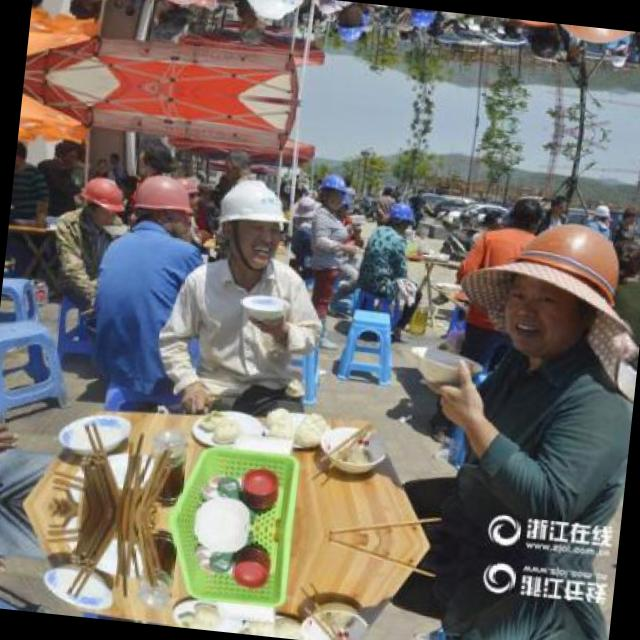helmet: (502, 217, 624, 359), (212, 174, 294, 272), (126, 168, 194, 237), (72, 170, 126, 228), (237, 0, 315, 25), (333, 5, 366, 44), (316, 170, 348, 210), (382, 198, 416, 232), (150, 0, 215, 12), (403, 8, 438, 30), (606, 47, 630, 71), (590, 200, 614, 223)
